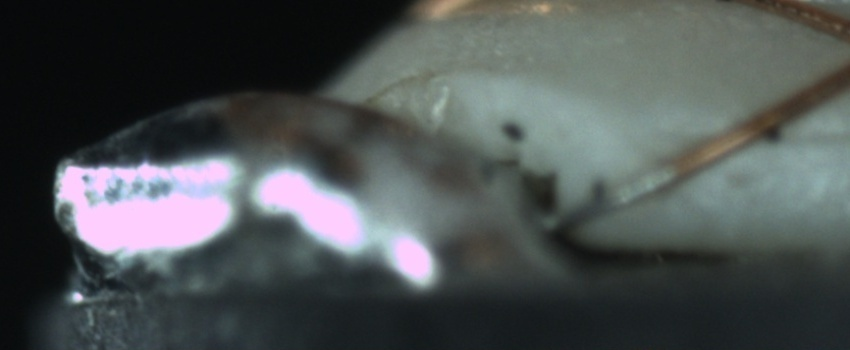DL: (692, 106, 849, 171)
TS: (547, 162, 680, 235)
